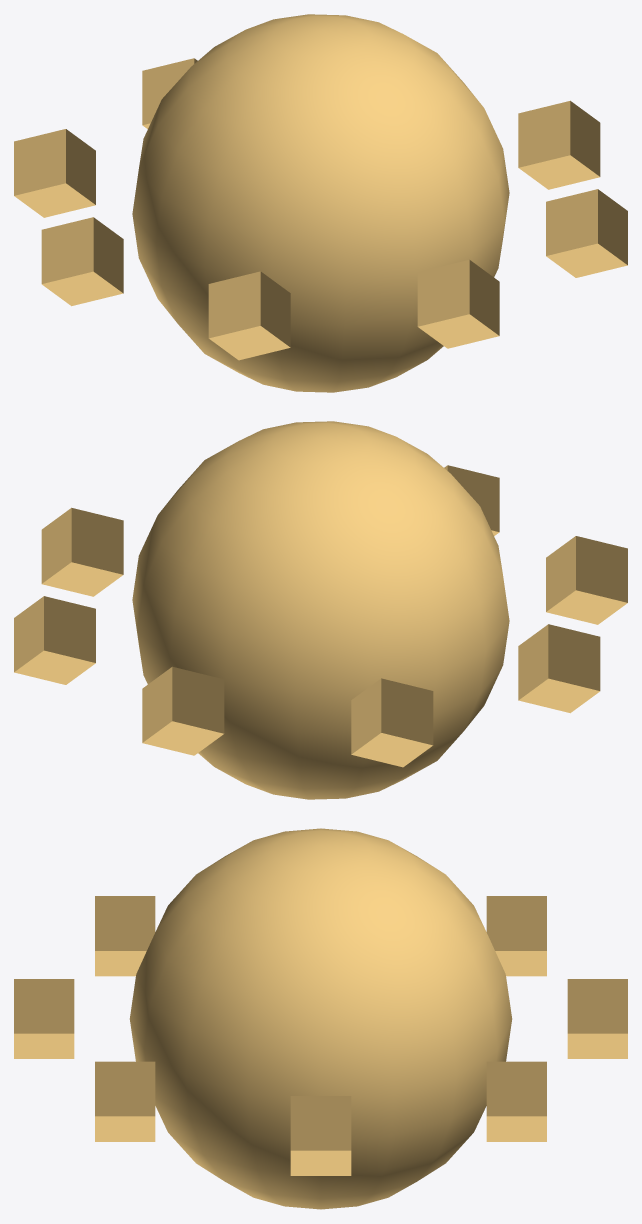
The model's file is sol-energia.glb.
The picture shows the model from 3 angles, top to bottom: view 1: azimuth 30°, elevation 25°; view 2: azimuth 150°, elevation 25°; view 3: azimuth 270°, elevation 25°; orthographic projection.
Bounding box in the file's own units: 1.22 × 0.76 × 1.22.
